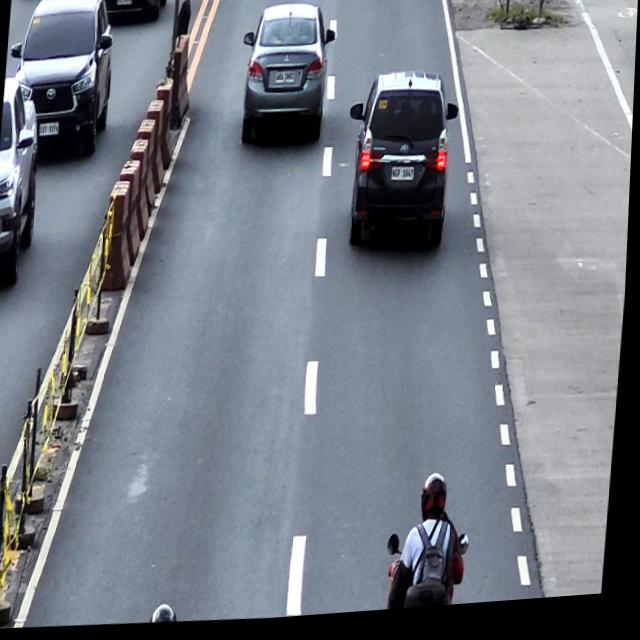Car: (340, 70, 463, 259), (3, 0, 118, 161), (236, 3, 338, 151), (0, 74, 46, 285), (88, 0, 168, 29)
License-Plate: (391, 169, 417, 188), (39, 122, 61, 137), (275, 73, 295, 89), (116, 0, 133, 7)
Motorcycle: (387, 532, 474, 616)
